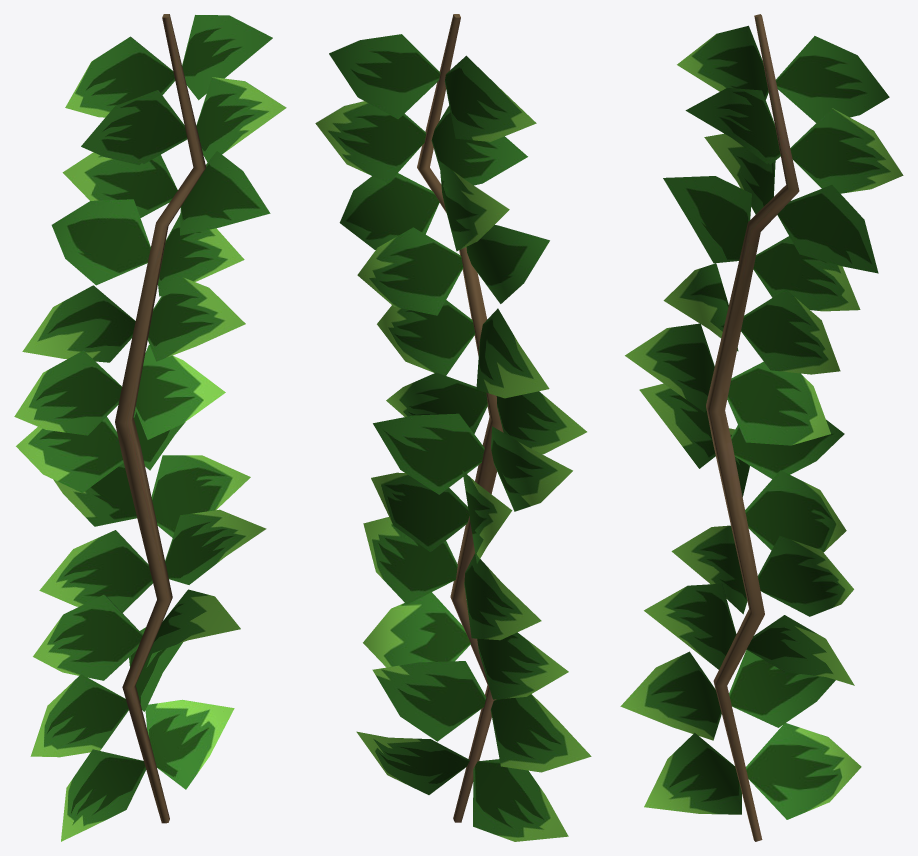
The model's file is Liane_1.FBX.
3 views of the same model, side by side, from view 1: azimuth 30°, elevation 25°; view 2: azimuth 150°, elevation 25°; view 3: azimuth 330°, elevation 25° (orthographic). The views are drawn at different scales.
Visible parts, largest first — view 1: Ivy_002; view 2: Ivy_002; view 3: Ivy_002.
Part boxes in pixels (box(x1,y1,x2,y2)): Ivy_002: box(14, 14, 286, 841); Ivy_002: box(315, 14, 591, 841); Ivy_002: box(620, 14, 903, 841).
Bounding box in the file's own units: 446 × 1263 × 119.
